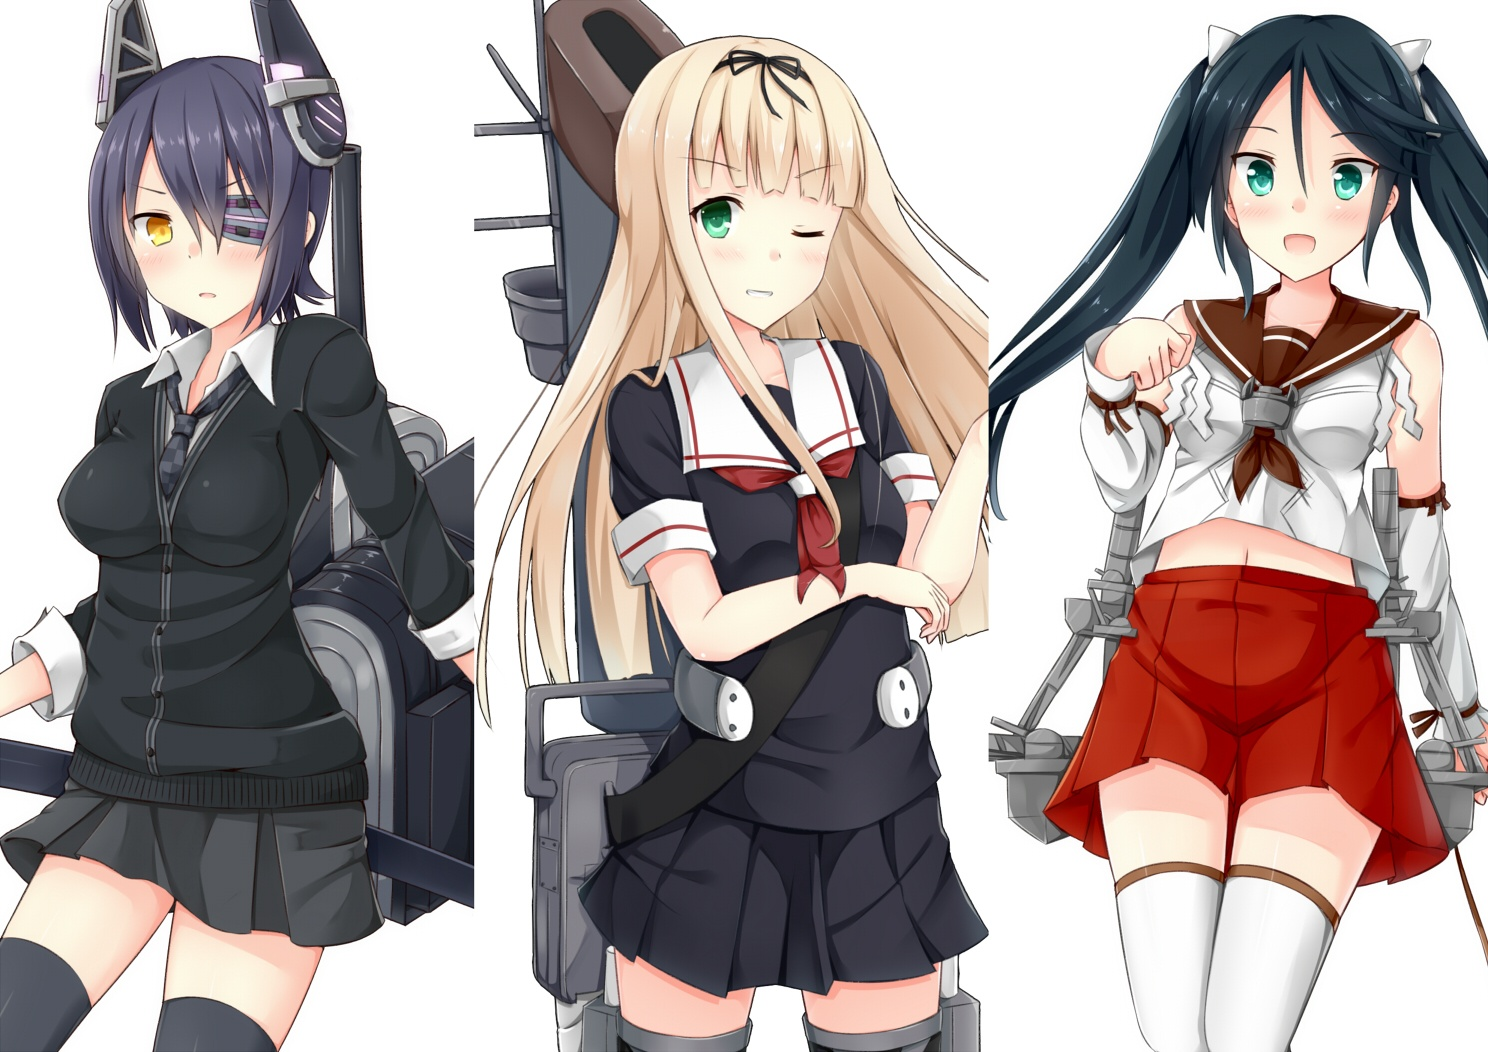纸片人正脸: (601, 29, 911, 345), (1159, 17, 1436, 293), (85, 40, 333, 335)
